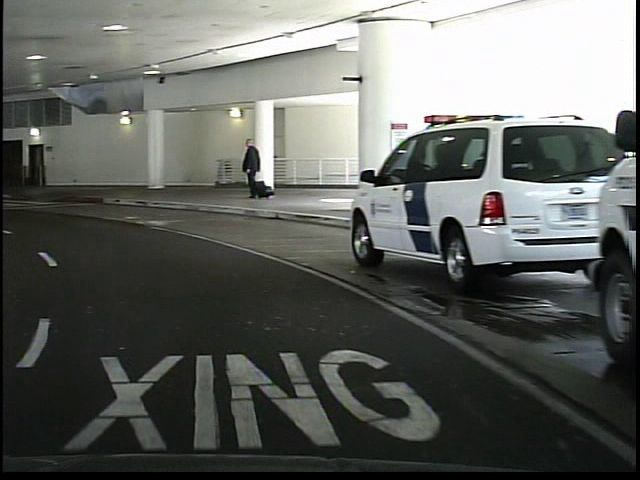person: (235, 136, 259, 202)
